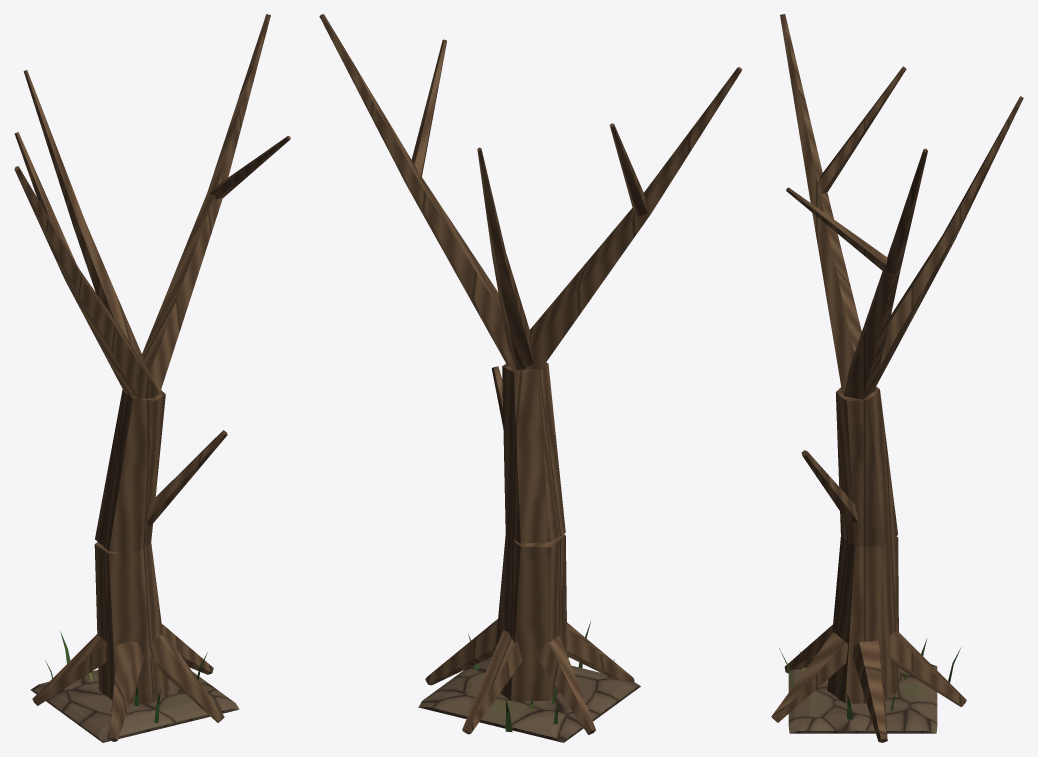
File: env_dead_tree.glb
3 views of the same model, side by side, from view 1: azimuth 30°, elevation 25°; view 2: azimuth 150°, elevation 25°; view 3: azimuth 270°, elevation 25° (orthographic). The views are drawn at different scales.
Visible parts, largest first — view 1: Env_dead_tree; view 2: Env_dead_tree; view 3: Env_dead_tree.
Part boxes in pixels (bbox=[...]): Env_dead_tree: bbox=[14, 14, 290, 742]; Env_dead_tree: bbox=[319, 14, 742, 742]; Env_dead_tree: bbox=[771, 14, 1023, 742].
Size of the model in its own units: 2.94 by 5.38 by 1.94.
4 materials, 4 textured.
